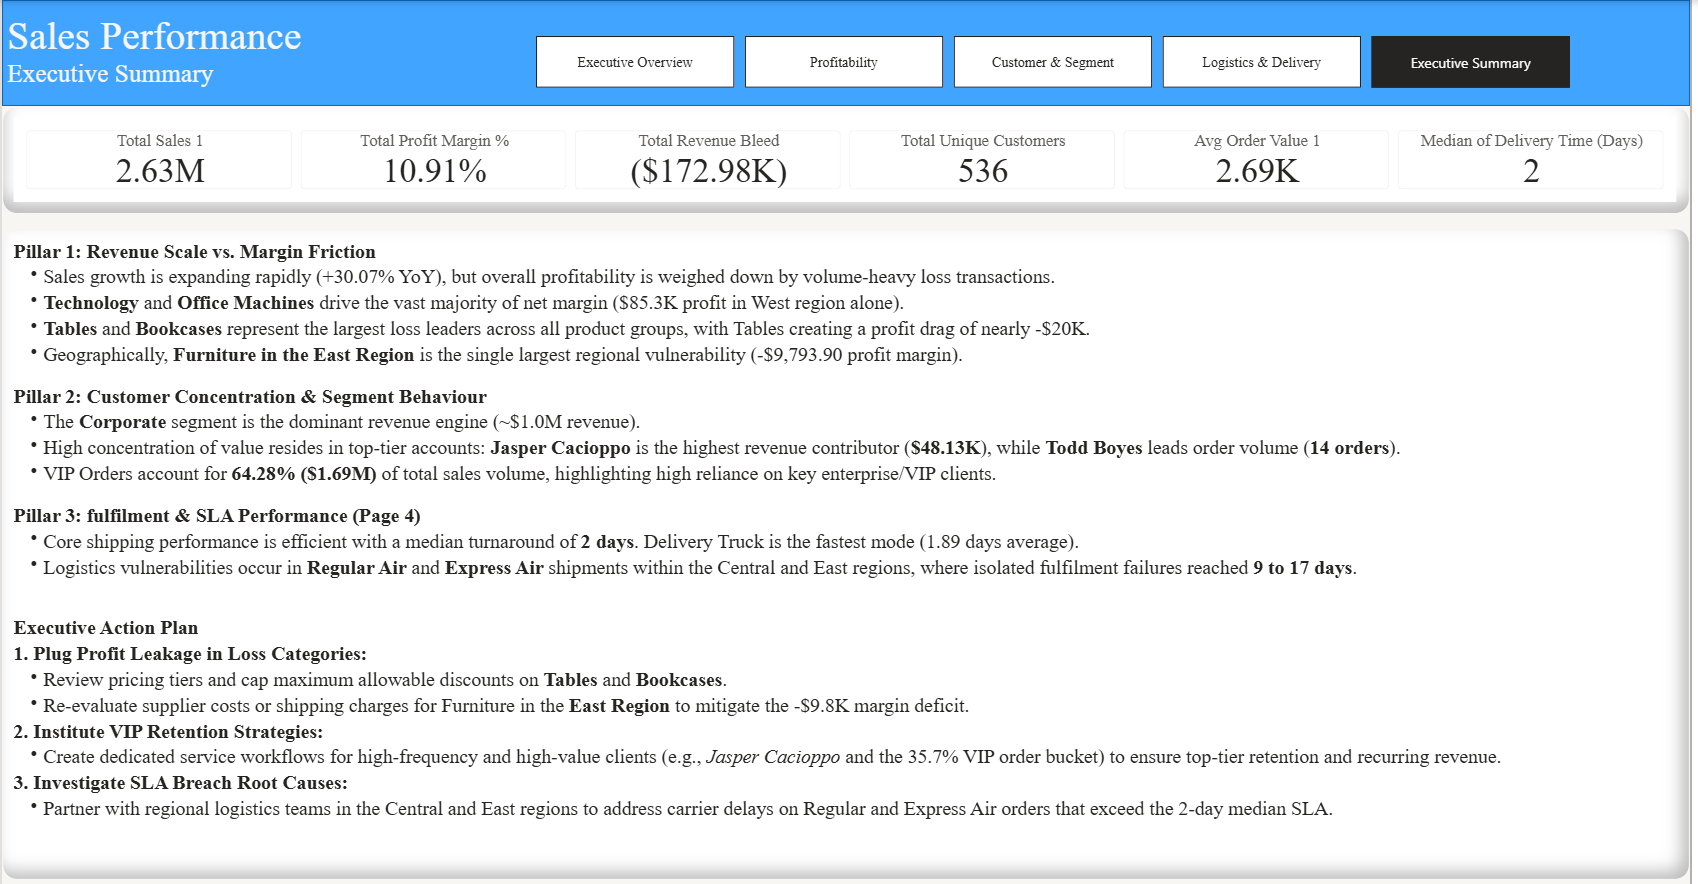

The dashboard page shown, as its layout file describes it:
{"tool":"powerbi","page":{"name":"Executive Summary","canvas":[1600,900],"ordinal":4},"visuals":[{"type":"shape","box":[0,0,1600,100.5],"z":0},{"type":"textbox","box":[0,7.1,480.5,108.9],"z":1000},{"type":"pageNavigator","box":[506.2,34.1,982,49.3],"z":2000},{"type":"cardVisual","fields":{"Data":["Working Sheet.Total Sales 1","Working Sheet.Total Profit Margin %","Working Sheet.Total Revenue Bleed","Working Sheet.Total Unique Customers","Working Sheet.Avg Order Value 1","Median(Working Sheet.Delivery Time (Days))"]},"box":[0,100.5,1600,102.4],"z":3000},{"type":"textbox","box":[0,216.1,1600,663.5],"z":4000}]}

Visuals, with their boxes on the page's 1600x900 design canvas (x1, y1, x2, y2). These are canvas units, not pixel positions in the 1698x884 screenshot, which may show the page scaled, cropped or inside an application window:
shape: left=0, top=0, right=1600, bottom=100
textbox: left=0, top=7, right=480, bottom=116
pageNavigator: left=506, top=34, right=1488, bottom=83
cardVisual - Working Sheet.Total Sales 1 x Working Sheet.Total Profit Margin %: left=0, top=100, right=1600, bottom=203
textbox: left=0, top=216, right=1600, bottom=880
